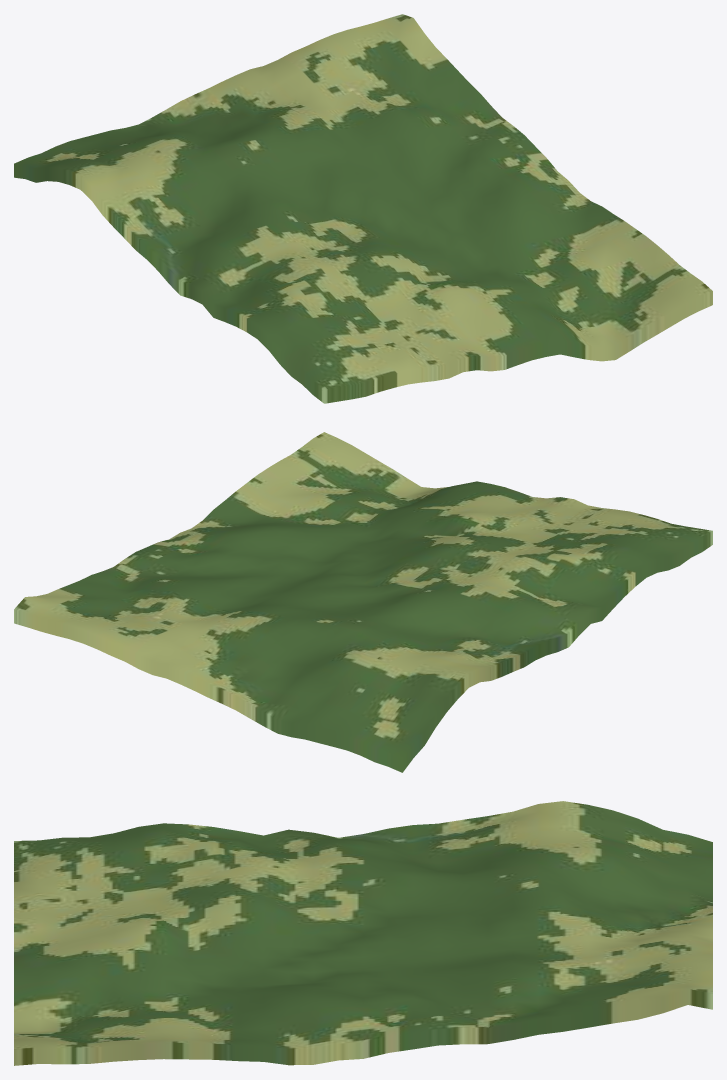
The picture shows the model from 3 angles, top to bottom: view 1: azimuth 30°, elevation 25°; view 2: azimuth 150°, elevation 25°; view 3: azimuth 270°, elevation 25°; orthographic projection. The views are drawn at different scales.
Bounding box in the file's own units: 1766 × 431 × 2442.
1 material, 1 textured.
